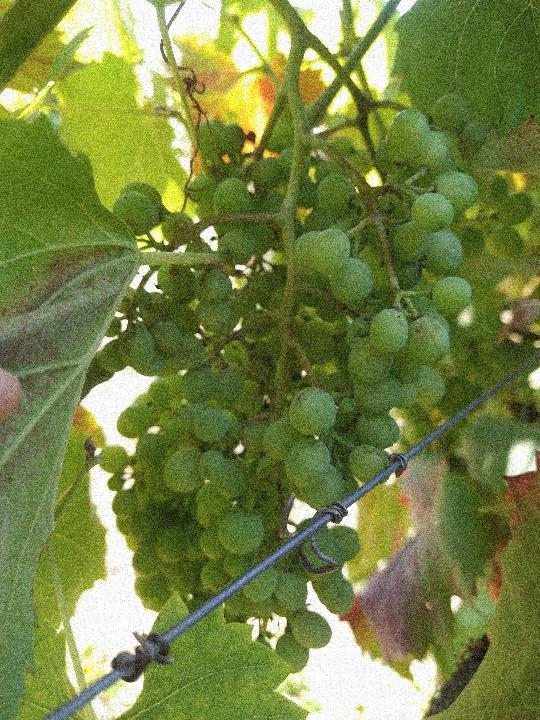grape: (99, 91, 536, 674)
